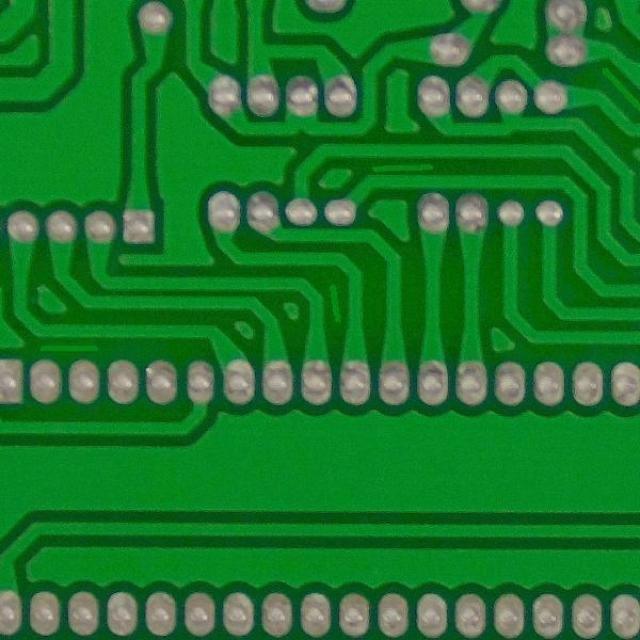Spurious_Cooper: (323, 278, 349, 328), (34, 340, 105, 355), (368, 161, 441, 175)
